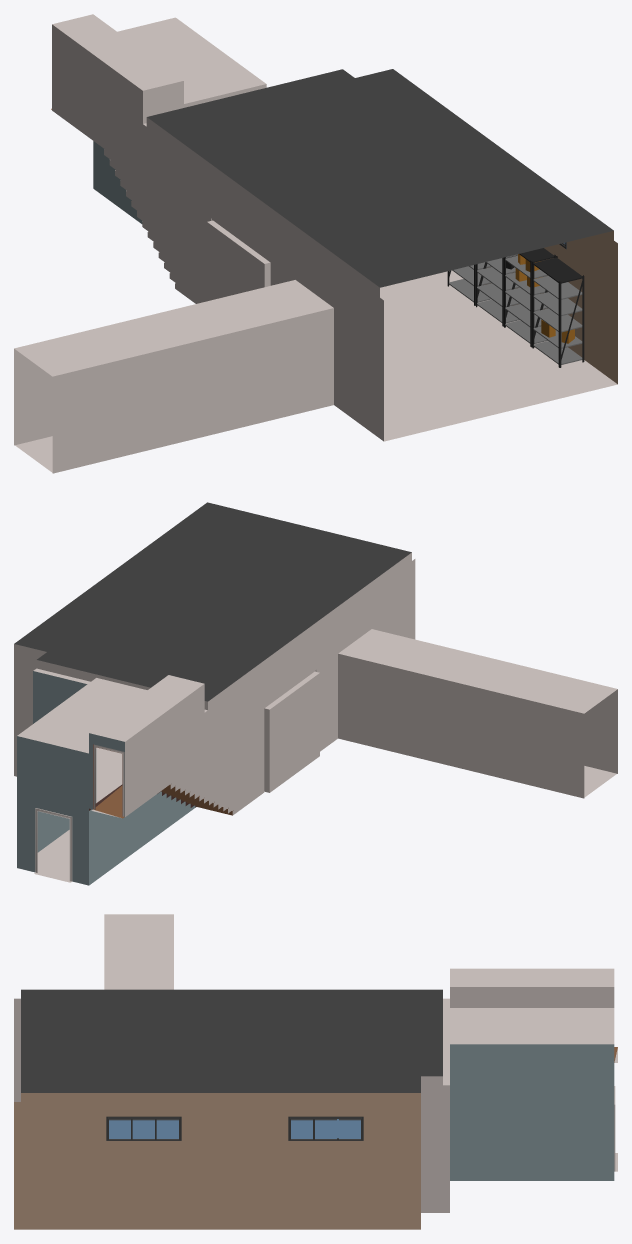
Rendered from Warehouse.fbx.
3 renders of one model, top to bottom at view 1: azimuth 30°, elevation 25°; view 2: azimuth 150°, elevation 25°; view 3: azimuth 270°, elevation 25°, orthographic. The views are drawn at different scales.
Parts seen in each view (by area): view 1: Warehouse; view 2: Warehouse; view 3: Warehouse.
Part boxes in pixels (box(x1,y1,x2,y2)): Warehouse: box(14, 14, 617, 473); Warehouse: box(14, 502, 617, 885); Warehouse: box(14, 914, 617, 1229).
Bounding box in the file's own units: 2059 × 661 × 2295.
